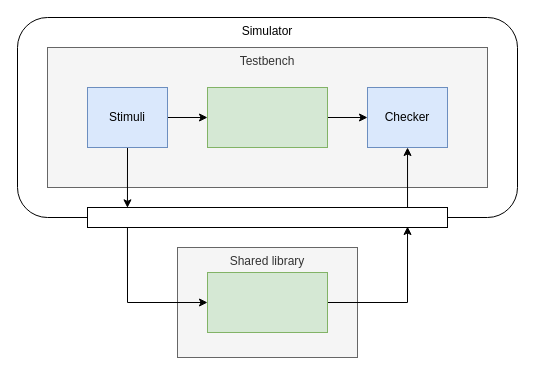
The diagram is 535 pixels wide and 375 high, and some of its shapes have lost their labels. Here are the shapes that lost their labels. From the top down, the centre of each, then its label:
the point at 267,117: DUT
the point at 267,217: VHPI
the point at 267,302: Reference Model (openSSL)
